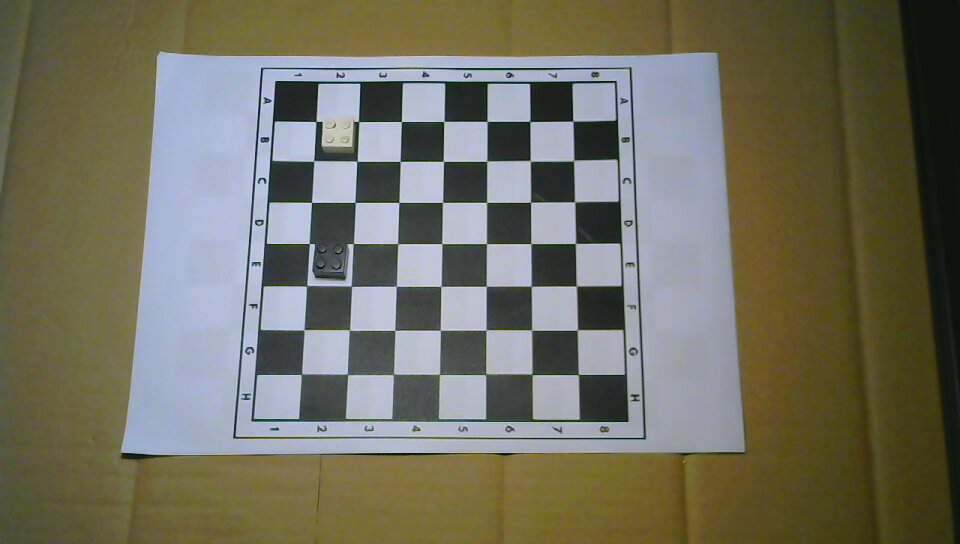bp: (311, 238, 351, 279)
wp: (320, 115, 356, 155)
